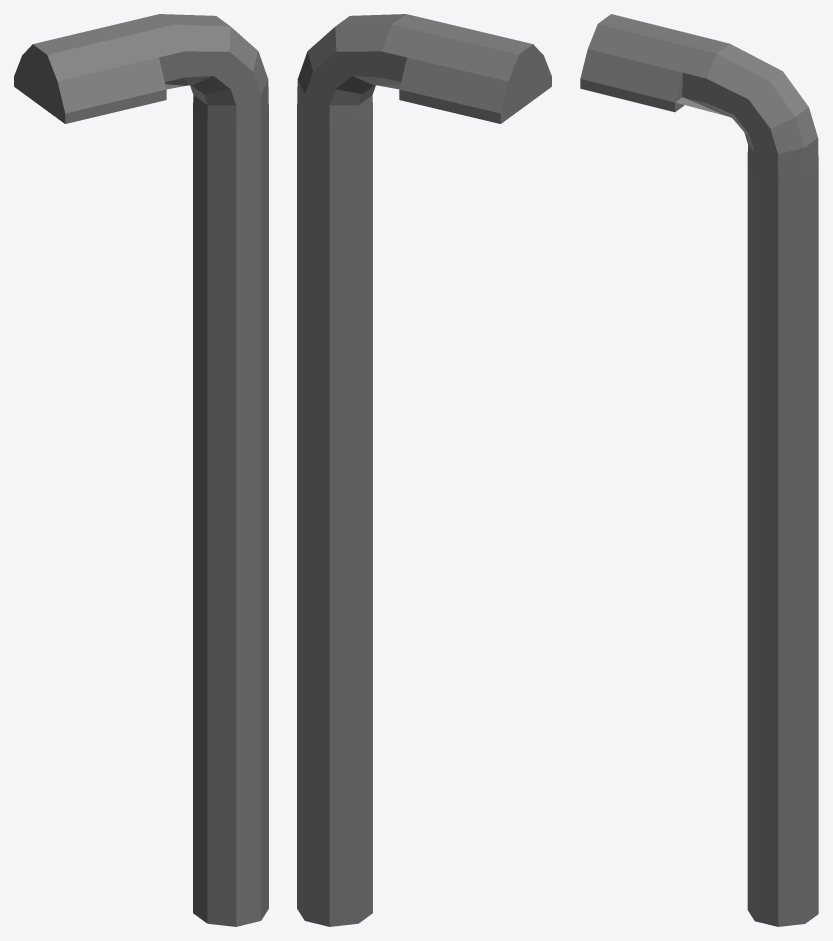
Rendered from Lightpole.glb.
3 renders of one model, left to right at view 1: azimuth 30°, elevation 25°; view 2: azimuth 150°, elevation 25°; view 3: azimuth 330°, elevation 25°, orthographic. The views are drawn at different scales.
Parts seen in each view (by area): view 1: Cube; view 2: Cube; view 3: Cube.
Part boxes in pixels (left/top/right/bottom): Cube: left=14, top=14, right=268, bottom=926; Cube: left=297, top=14, right=551, bottom=926; Cube: left=580, top=14, right=818, bottom=926.
Bounding box in the file's own units: 4.57 × 17.86 × 1.82.
Materials: 1 (1 with a texture image).
